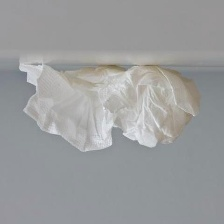tissue: (14, 52, 205, 158)
